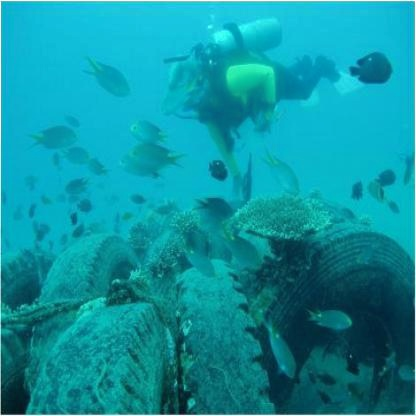tire: (242, 221, 416, 416), (19, 303, 186, 416), (166, 259, 277, 416), (30, 227, 151, 304), (1, 316, 60, 416), (1, 237, 57, 299)
